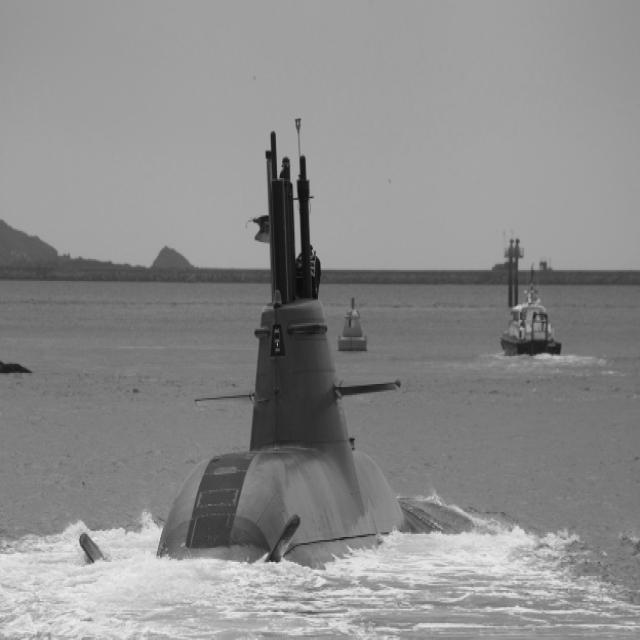submarine: (69, 109, 456, 594)
